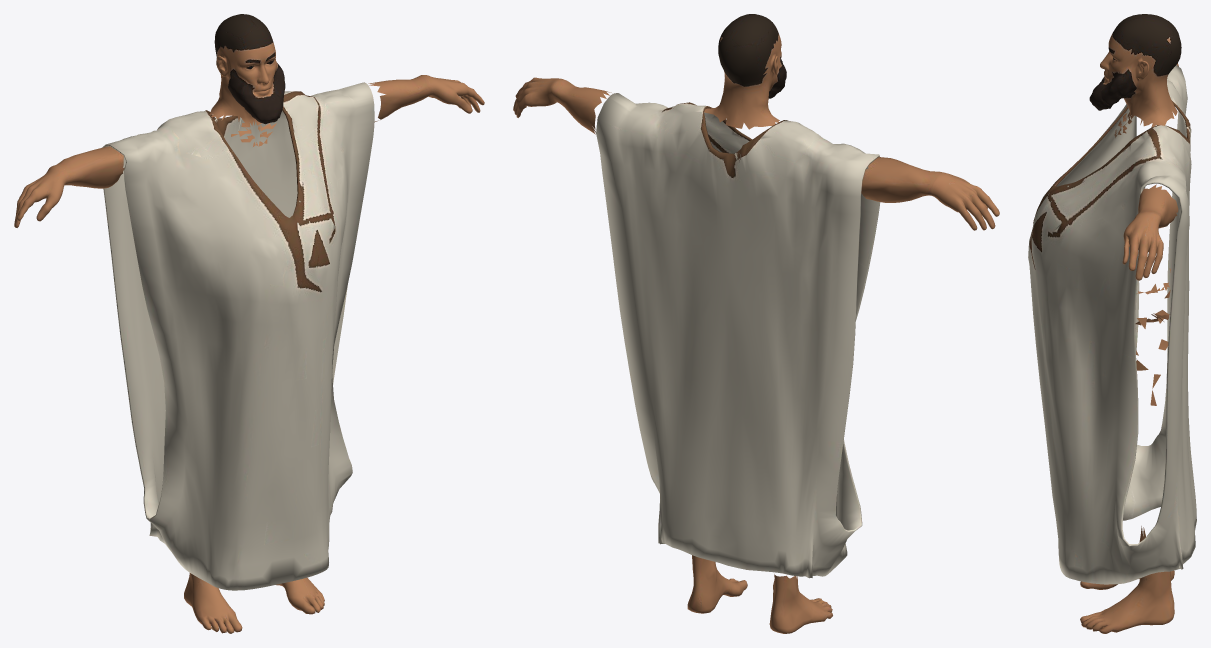
File: npc.glb
The picture shows the model from 3 angles, left to right: view 1: azimuth 30°, elevation 25°; view 2: azimuth 150°, elevation 25°; view 3: azimuth 270°, elevation 25°; orthographic projection. The views are drawn at different scales.
Parts seen in each view (by area): view 1: body; view 2: body; view 3: body.
Part boxes in pixels (x1,y1,x2,y2): body: (14,14,484,633); body: (513,14,999,633); body: (1028,14,1196,633).
Size of the model in its own units: 1.51 by 1.8 by 0.4669.
1 material, 1 textured.
